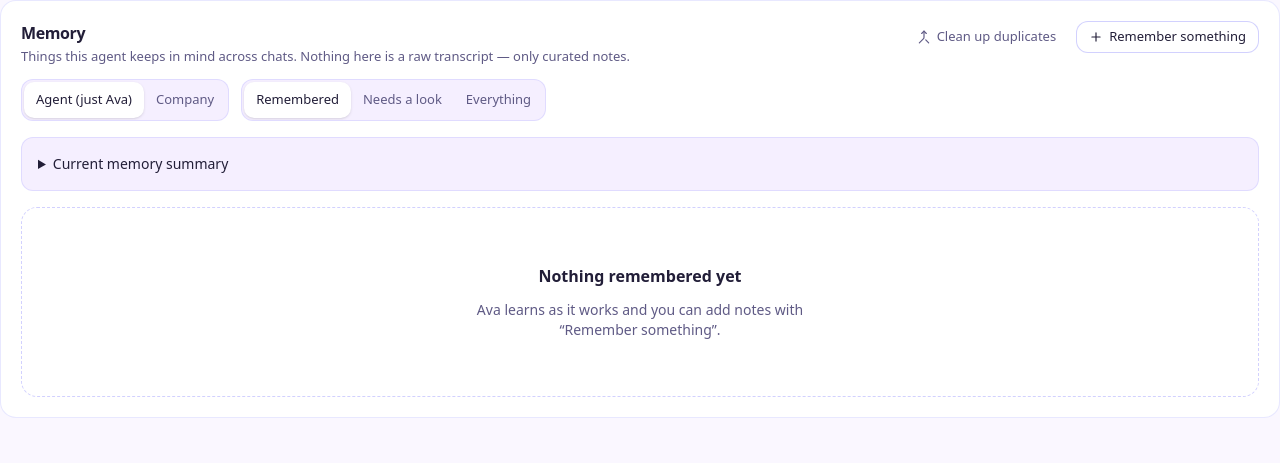
Test: MemoryPanel duplicates cleanup › mentions smart matching when the model compared wordings
The image size is (1280, 463).
Click the button "Clean up duplicates" at (986, 37), box [905,21,1068,53]
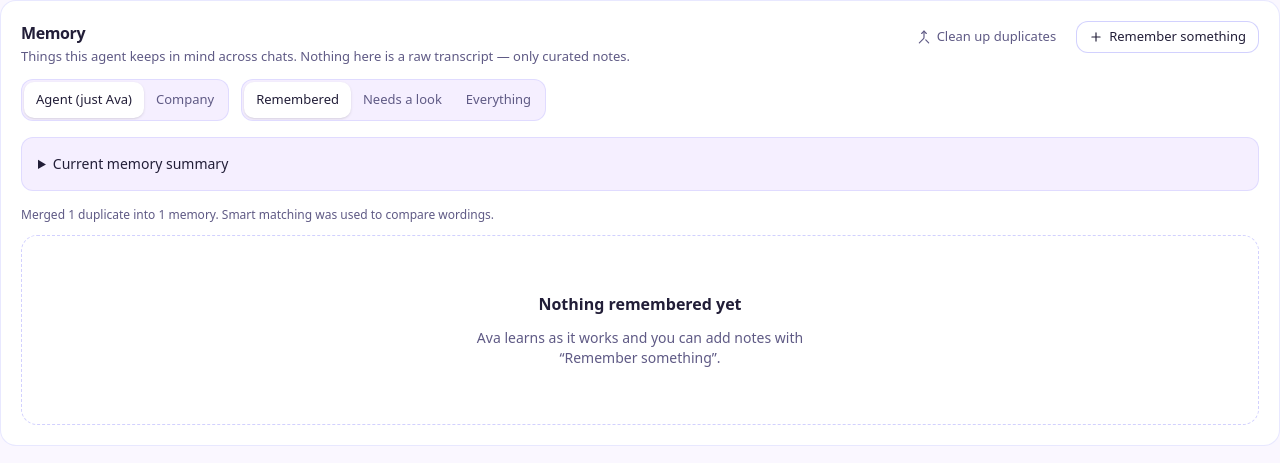
expect the message reads "Merged 1 duplicate into 1 memory. Smart matching was used to compare wordings.": met, box [21,206,494,222]
